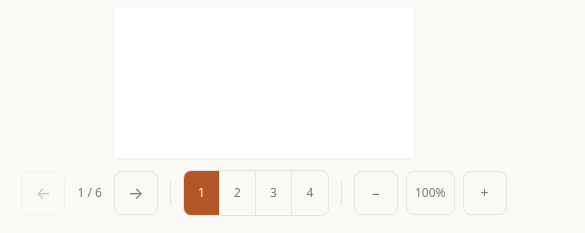
Test: showing several pages at a time › keeps the arrow keys turning by the spread
Click the button named "2 pages at a time": x=238, y=193 [220, 171, 256, 215]
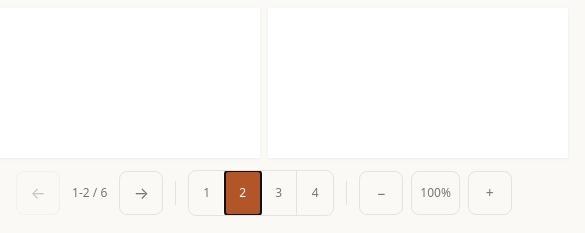
Press ArrowRight
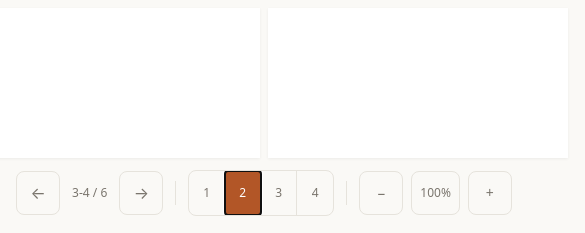
expect the text "3-4 / 6" is shown: met, box [72, 184, 107, 201]
